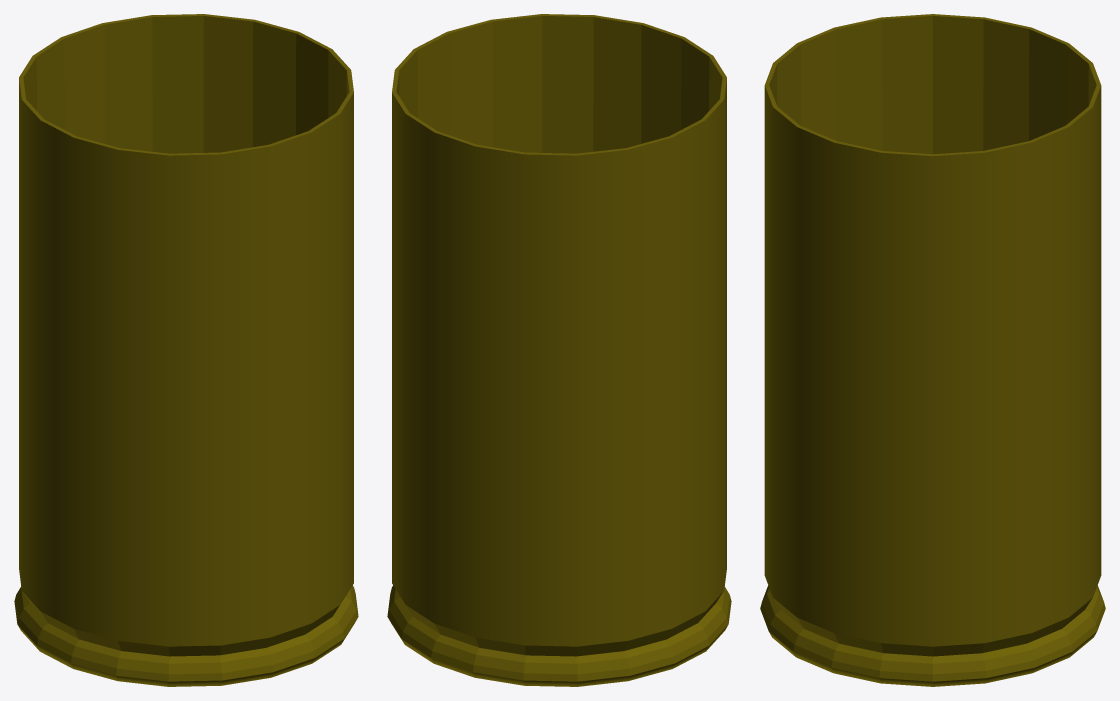
Rendered from BulletCasing.fbx.
The picture shows the model from 3 angles, left to right: view 1: azimuth 30°, elevation 25°; view 2: azimuth 150°, elevation 25°; view 3: azimuth 270°, elevation 25°; orthographic projection.
Visible parts, largest first — view 1: Bullet_Casing; view 2: Bullet_Casing; view 3: Bullet_Casing.
Part boxes in pixels (x1,y1,x2,y2): Bullet_Casing: [14, 14, 358, 686]; Bullet_Casing: [387, 14, 731, 686]; Bullet_Casing: [760, 14, 1105, 686].
Size of the model in its own units: 2.42 by 4.11 by 2.42.
